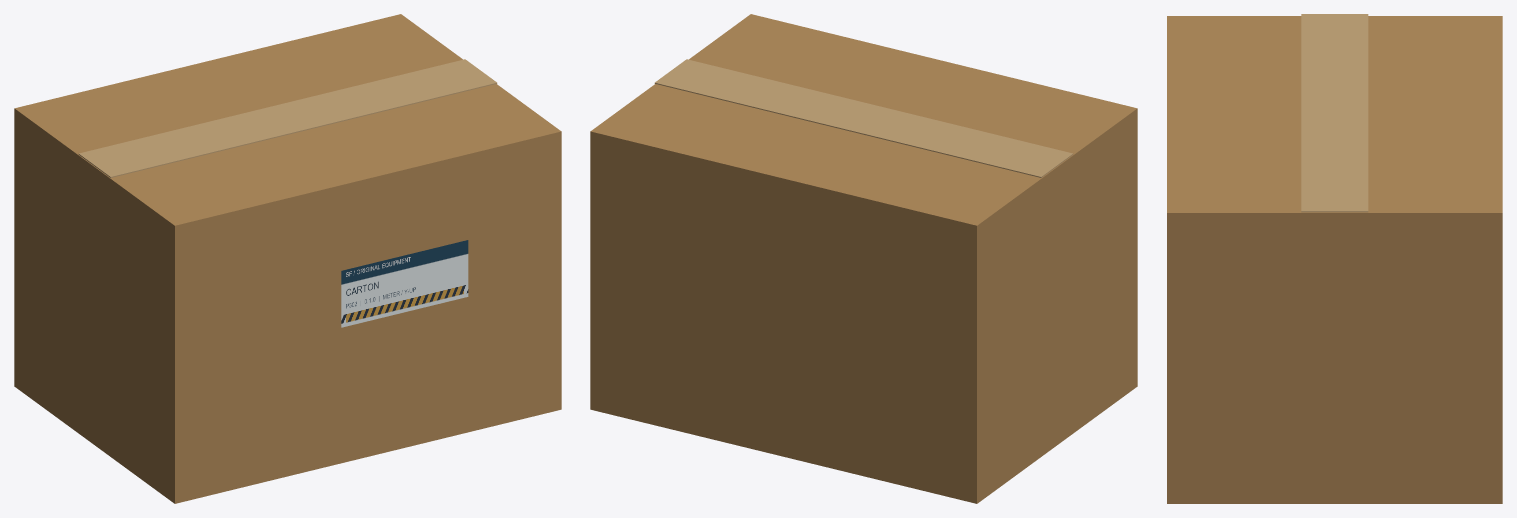
File: carton.glb
3 renders of one model, left to right at view 1: azimuth 30°, elevation 25°; view 2: azimuth 150°, elevation 25°; view 3: azimuth 270°, elevation 25°, orthographic. The views are drawn at different scales.
Parts seen in each view (by area): view 1: GaugeCarton, GaugeTape, GaugeLabel; view 2: GaugeCarton, GaugeTape; view 3: GaugeCarton, GaugeTape.
Boxes of the visible parts, bbox=[...] form: GaugeCarton: bbox=[14, 14, 561, 503]; GaugeTape: bbox=[78, 59, 497, 177]; GaugeLabel: bbox=[341, 240, 468, 327]; GaugeCarton: bbox=[590, 14, 1137, 503]; GaugeTape: bbox=[654, 59, 1073, 177]; GaugeCarton: bbox=[1167, 16, 1502, 503]; GaugeTape: bbox=[1301, 14, 1368, 212].
Size of the model in its own units: 0.32 by 0.2214 by 0.2305.
Materials: 4 (1 with a texture image).
